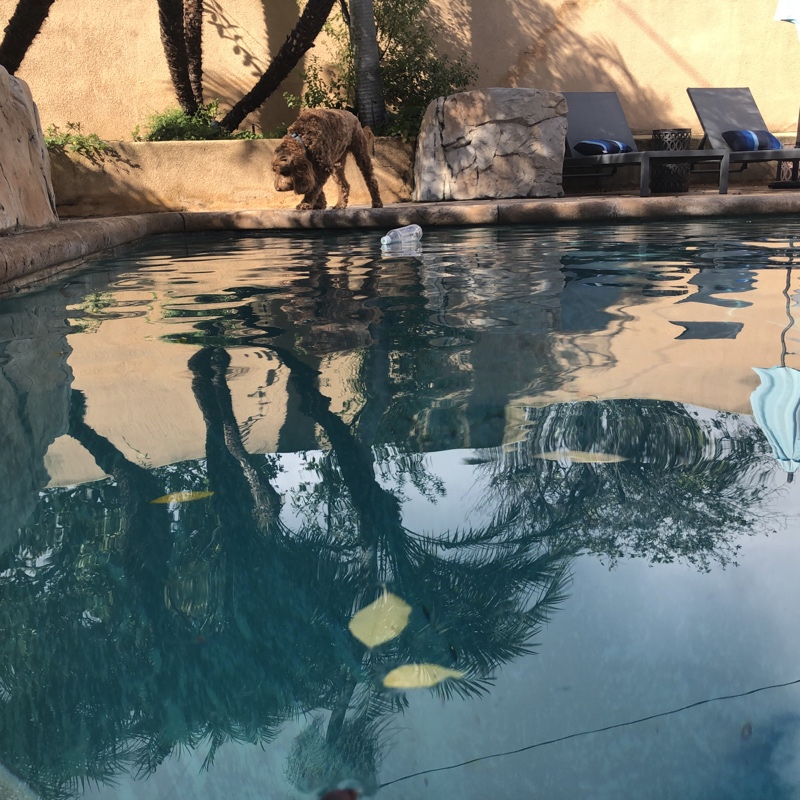Plastic Bottle: (379, 223, 424, 248)
